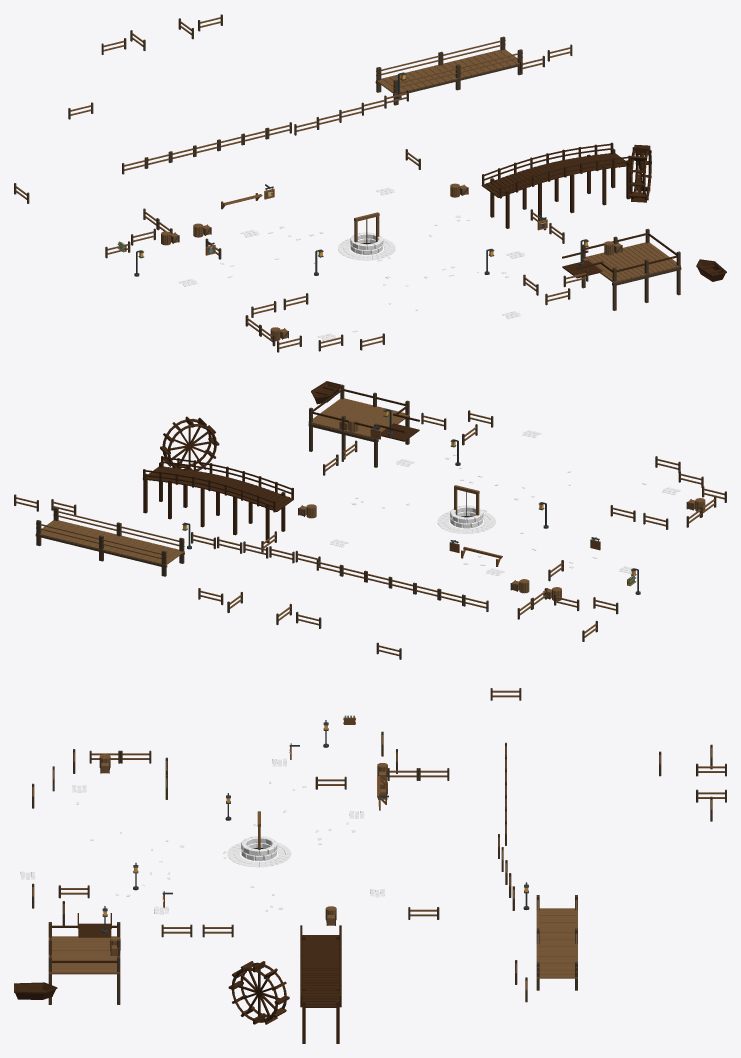
Rendered from props.glb.
3 renders of one model, top to bottom at view 1: azimuth 30°, elevation 25°; view 2: azimuth 150°, elevation 25°; view 3: azimuth 270°, elevation 25°, orthographic. The views are drawn at different scales.
Parts seen in each view (by area): view 1: UpstreamBridge, LakesideDock, CourtyardInlaidStone, CentralWell; view 2: UpstreamBridge, LakesideDock, CourtyardInlaidStone, CentralWell; view 3: UpstreamBridge, LakesideDock, CourtyardInlaidStone, CentralWell.
Part boxes in pixels (left/top/right/bottom): UpstreamBridge: left=375, top=36, right=522, bottom=105; LakesideDock: left=581, top=229, right=681, bottom=310; CourtyardInlaidStone: left=178, top=187, right=525, bottom=341; CentralWell: left=350, top=212, right=383, bottom=254; UpstreamBridge: left=35, top=507, right=184, bottom=576; LakesideDock: left=308, top=384, right=409, bottom=467; CourtyardInlaidStone: left=330, top=430, right=680, bottom=575; CentralWell: left=450, top=485, right=483, bottom=528; UpstreamBridge: left=536, top=895, right=577, bottom=990; LakesideDock: left=48, top=922, right=120, bottom=1004; CourtyardInlaidStone: left=20, top=758, right=384, bottom=914; CentralWell: left=241, top=811, right=277, bottom=860.
Bounding box in the file's own units: 69.61 × 12.25 × 69.36.
